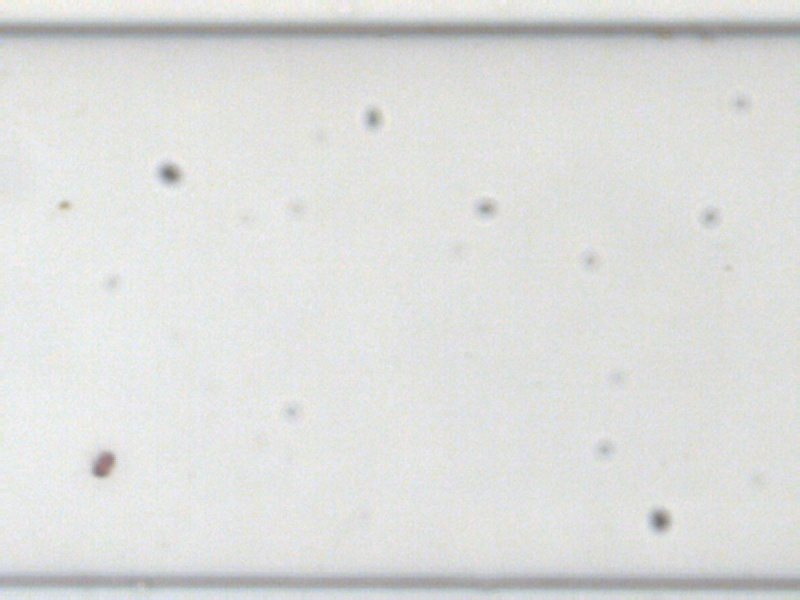Chlorella: (55, 197, 72, 211)
Porphyridium: (87, 448, 115, 479)
